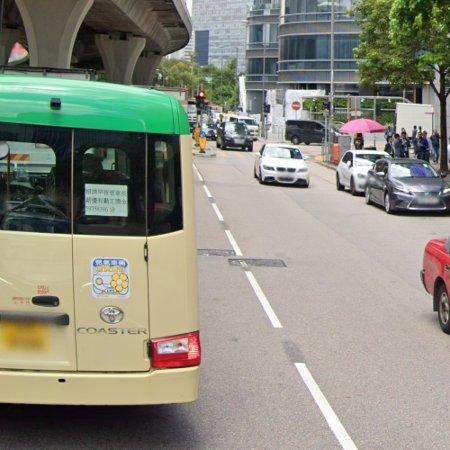buses: (0, 74, 201, 405)
